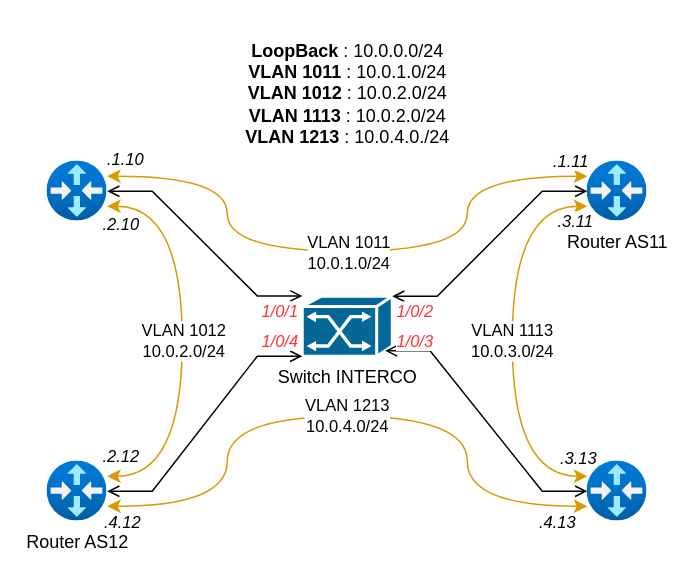
Image size: 693x578. Some labels were removed from this diagram. The shapes that lost their labels are listed below. From the top down, each one's centre as x and y in pixels, then its label:
At pixel 76 190: "Router AS10".
At pixel 616 490: "Router AS13".
